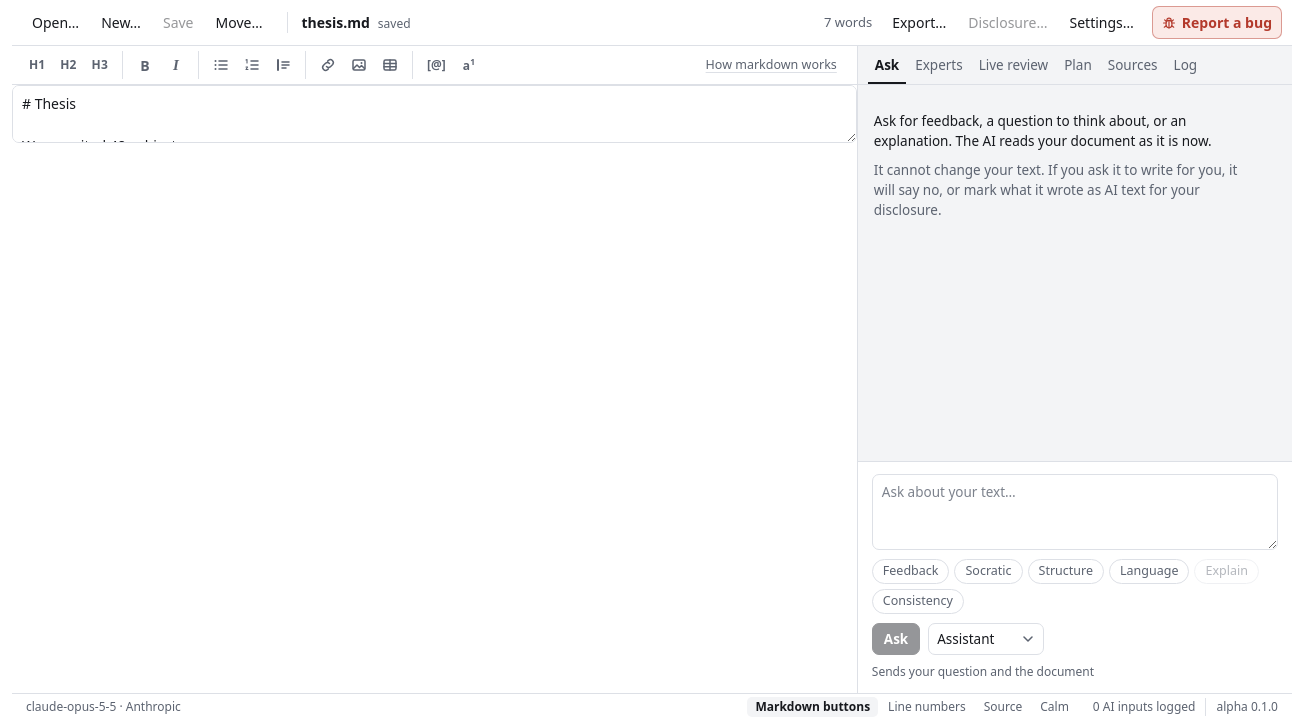
saving sends the text as typed, and a refused write is shown in the log
expect the text "thesis.md" is shown: met, box [302,13,370,32]
expect the button "Save" is disabled: met, box [153,6,204,39]
In the text box named "Document": {"x": 434, "y": 114} [12,85,857,143], type "Mine."
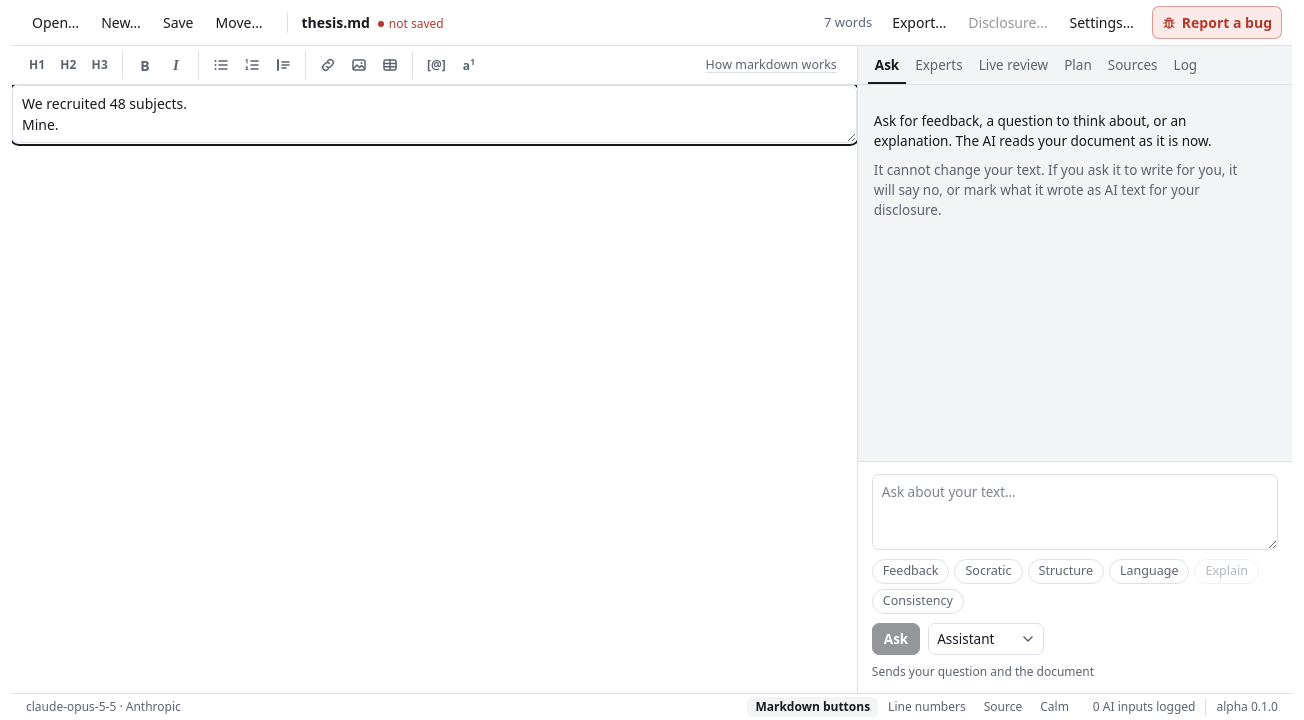
Click the button "Save": {"x": 178, "y": 22} [153,6,204,39]
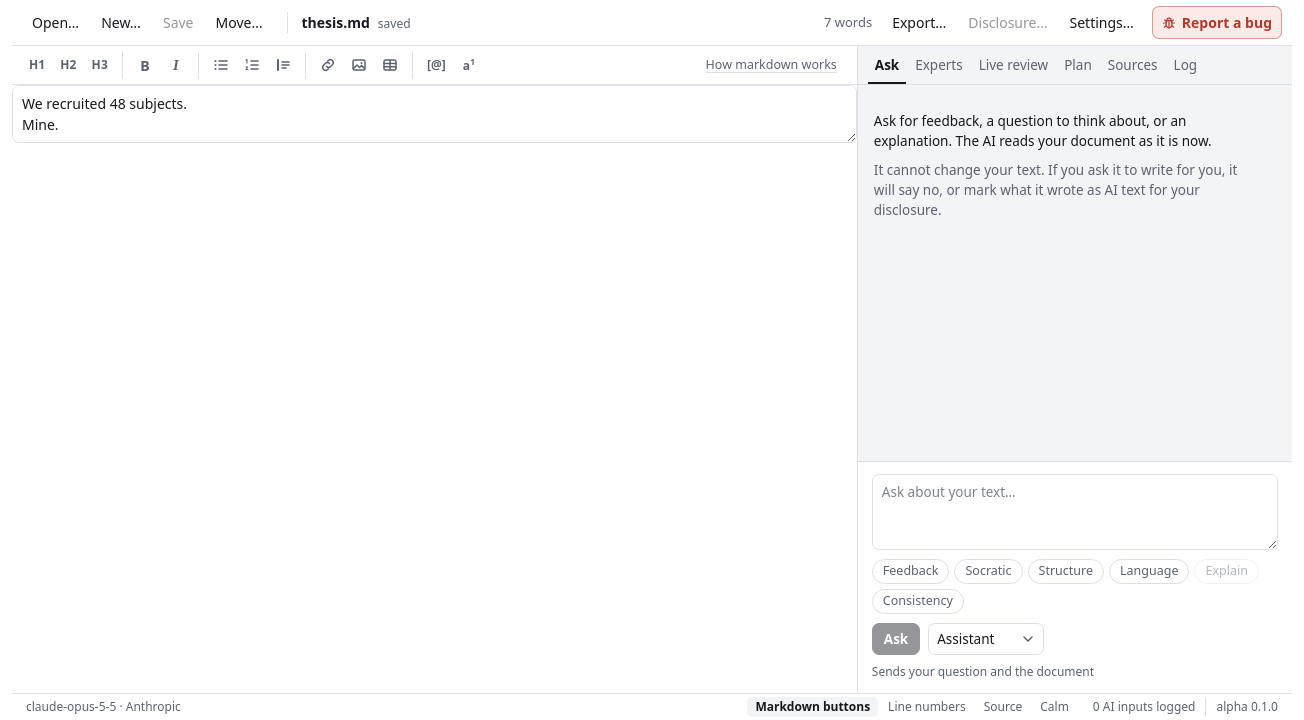
expect the text "saved" is shown: met, box [378,15,410,32]
In the text box named "Ask the AI": {"x": 1075, "y": 512} [872,474,1278,550], type "rewrite it"
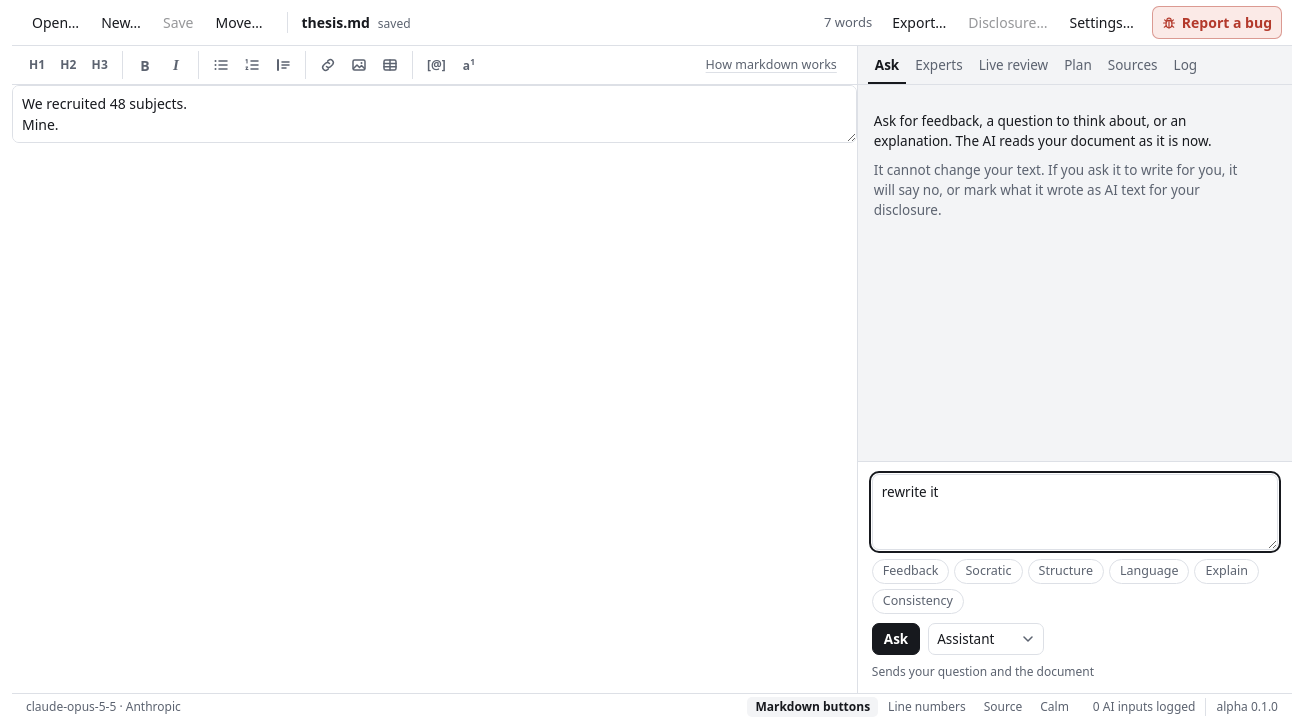
Click the button "Ask": {"x": 896, "y": 639} [872,623,920,655]
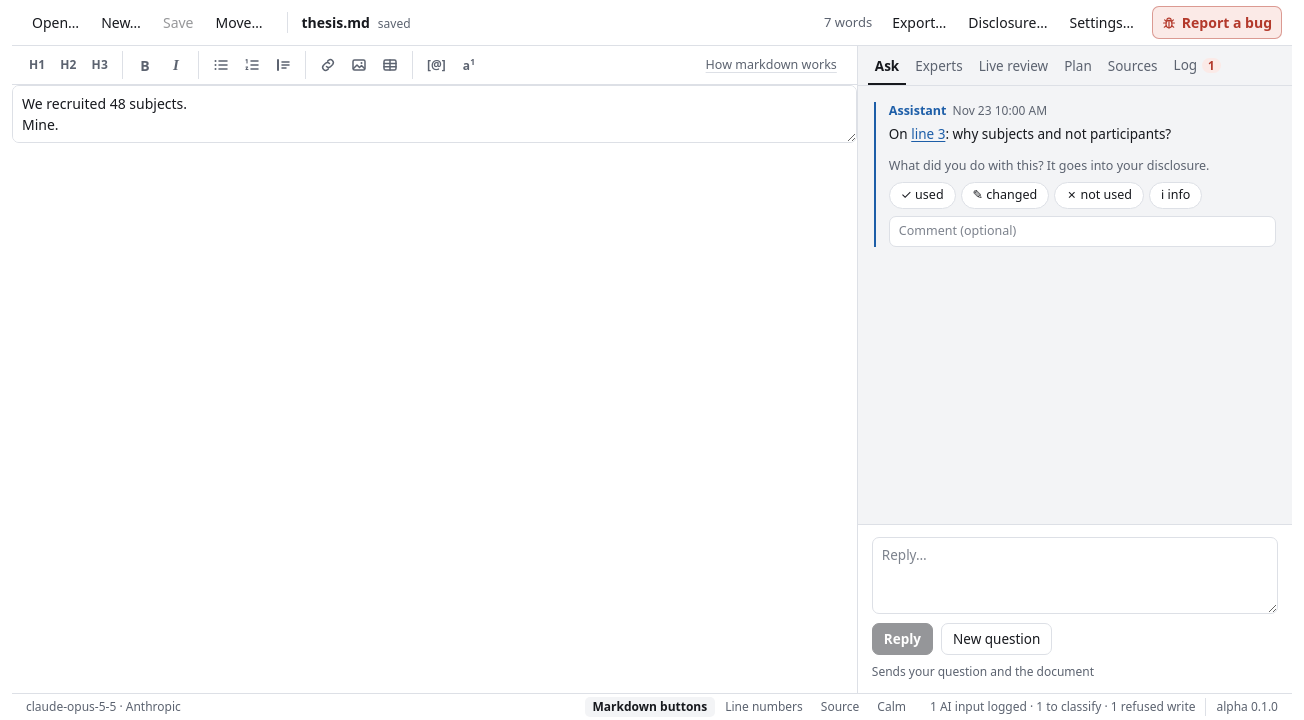
expect the text "On line 3 : why subjects and not participants?" is shown: met, box [889,124,1171,145]
Click the tab "Log1": {"x": 1197, "y": 66} [1167,46,1228,85]
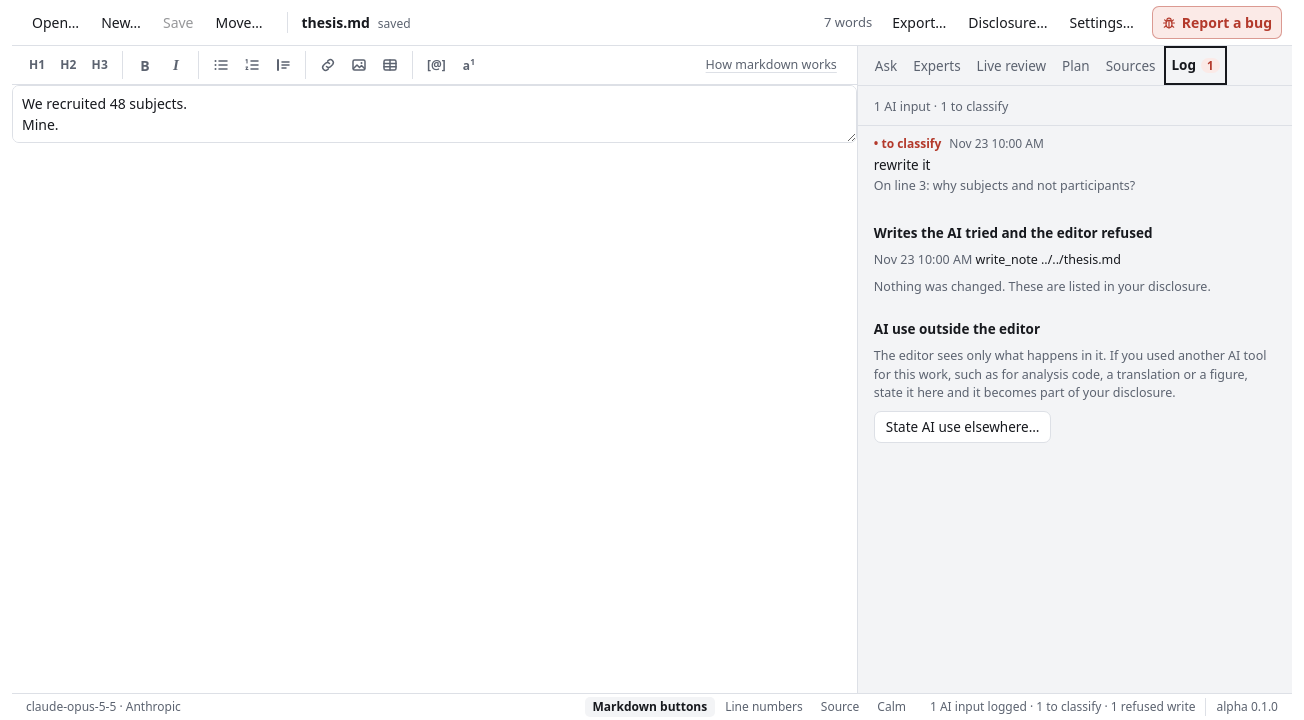
expect the heading "Writes the AI tried and the editor refused" is shown: met, box [874,224,1152,242]
expect the list item "Nov 23 10:00 AM write_note ../../thesis.md" is shown: met, box [874,251,1121,268]
